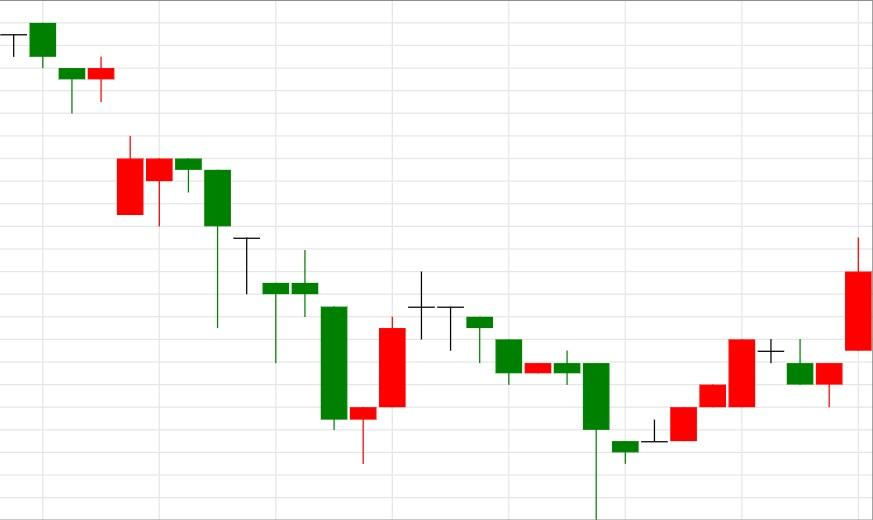morning_star_rise: (175, 157, 407, 464)
